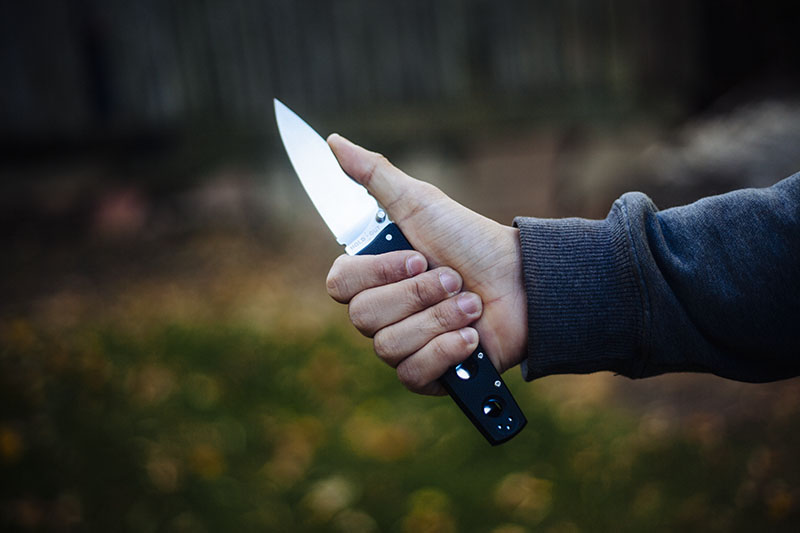knife: (260, 87, 466, 336)
